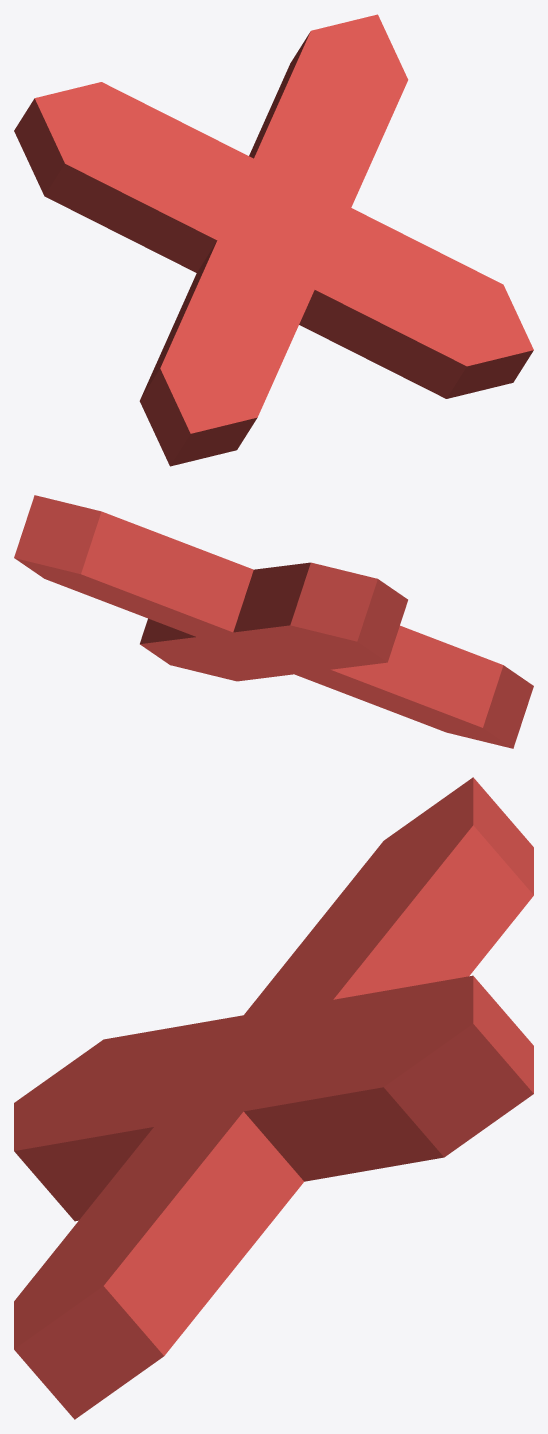
The model's file is girth_junku.glb.
The picture shows the model from 3 angles, top to bottom: view 1: azimuth 30°, elevation 25°; view 2: azimuth 150°, elevation 25°; view 3: azimuth 270°, elevation 25°; orthographic projection. The views are drawn at different scales.
Parts seen in each view (by area): view 1: Cube; view 2: Cube; view 3: Cube.
Boxes of the visible parts, <box> form: Cube: <box>14,14,533,466</box>; Cube: <box>14,495,533,748</box>; Cube: <box>14,777,533,1419</box>.
Size of the model in its own units: 2 by 1.5 by 1.78.
